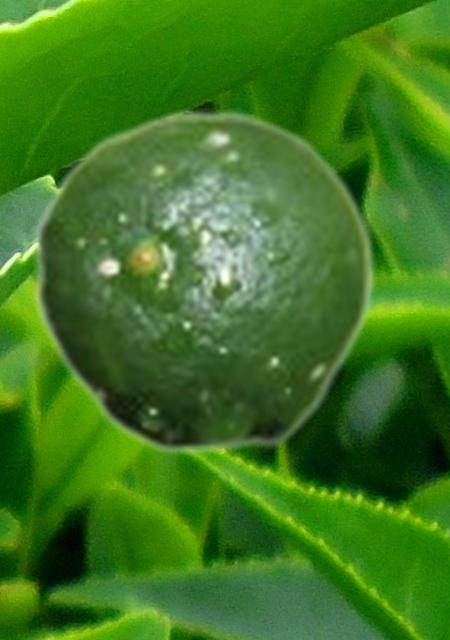calamansi: (32, 108, 376, 456)
